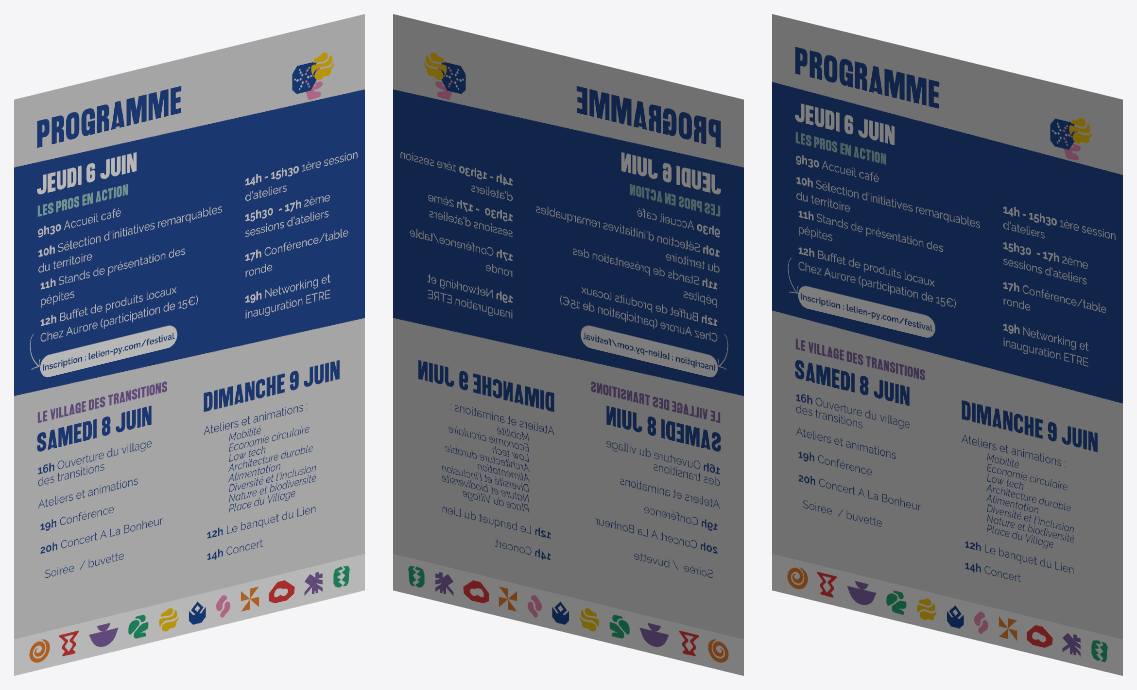
Rendered from Paper.fbx.
3 views of the same model, side by side, from view 1: azimuth 30°, elevation 25°; view 2: azimuth 150°, elevation 25°; view 3: azimuth 330°, elevation 25° (orthographic).
Parts seen in each view (by area): view 1: Paper; view 2: Paper; view 3: Paper.
Part boxes in pixels (box(x1,y1,x2,y2)): Paper: box(14, 14, 364, 675); Paper: box(393, 14, 743, 675); Paper: box(772, 14, 1122, 675).
Bounding box in the file's own units: 1.27 × 2 × 8.74e-08.
